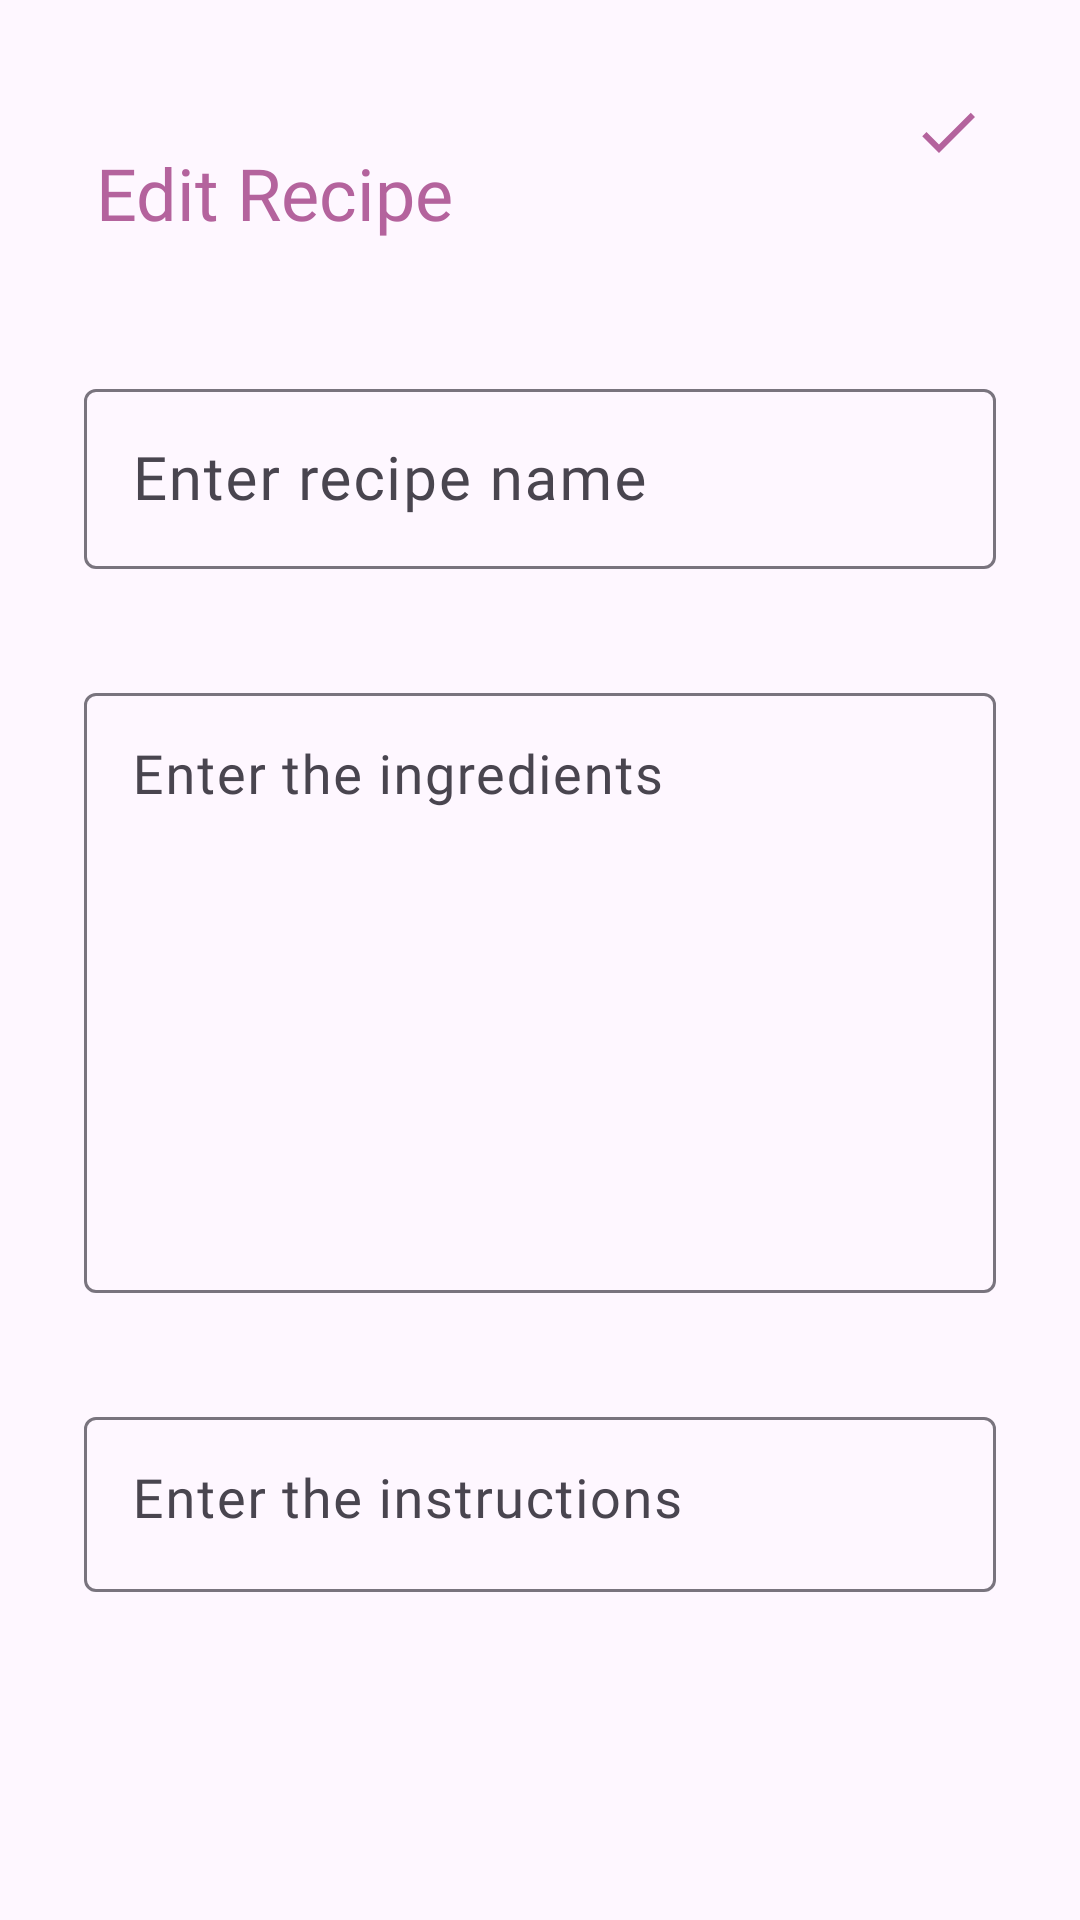

Screen size 1080px×1920px. Icon name, then its center in pixels as (x,y):
check: (948,133)
